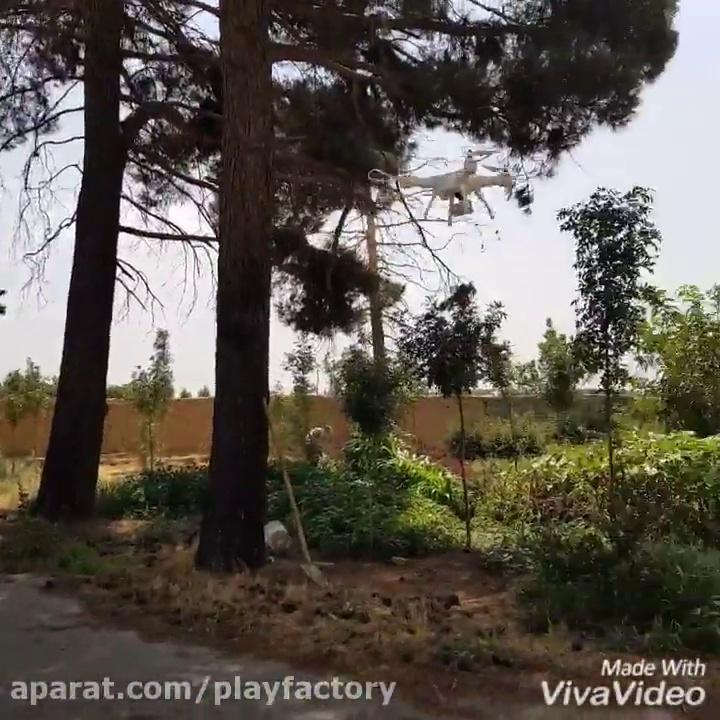drone: (365, 145, 521, 227)
